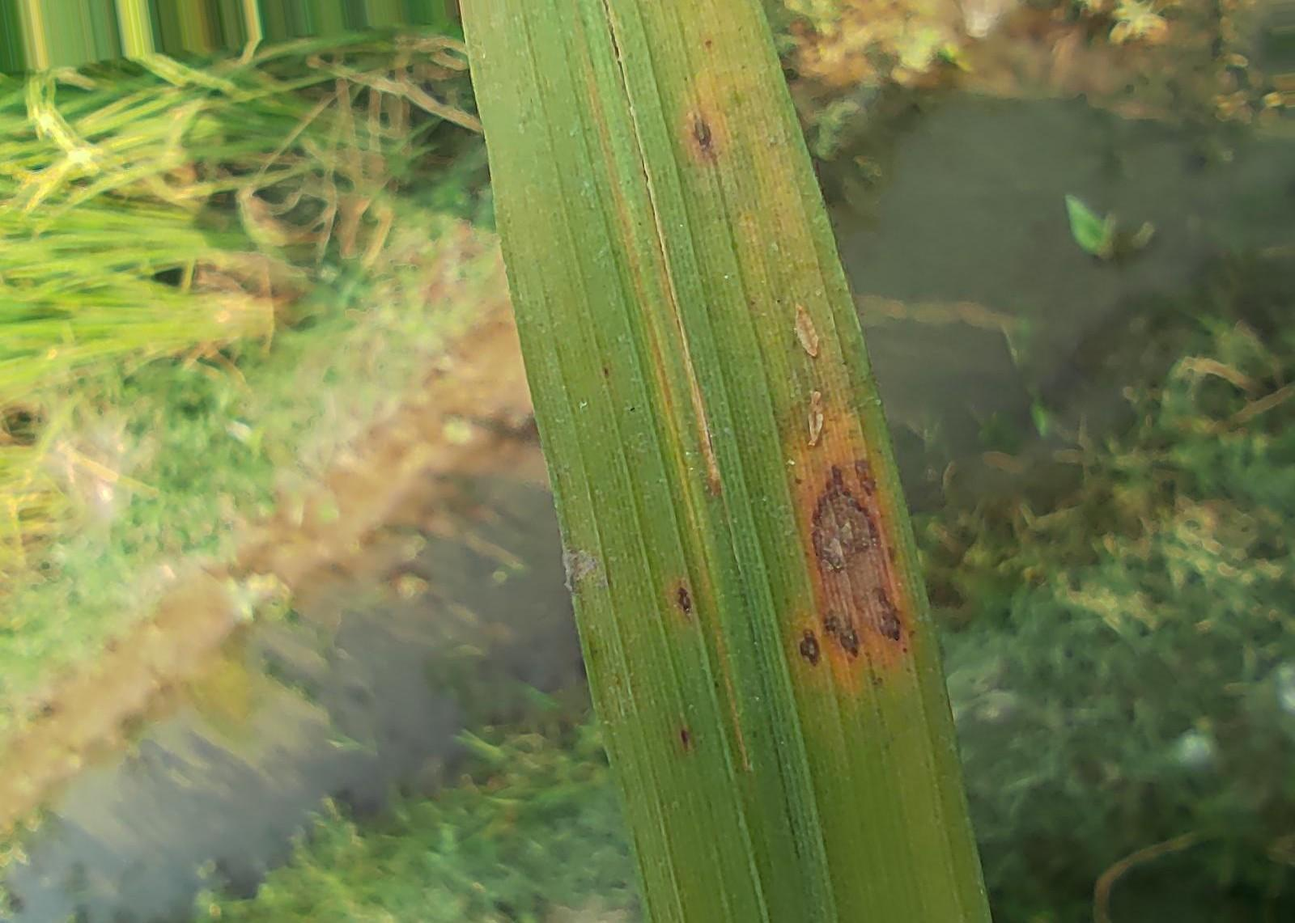LEAF: (463, 0, 989, 922)
LEAF BLAST: (813, 468, 903, 663), (671, 579, 695, 618), (799, 629, 819, 665), (856, 459, 875, 494), (694, 116, 708, 150)
